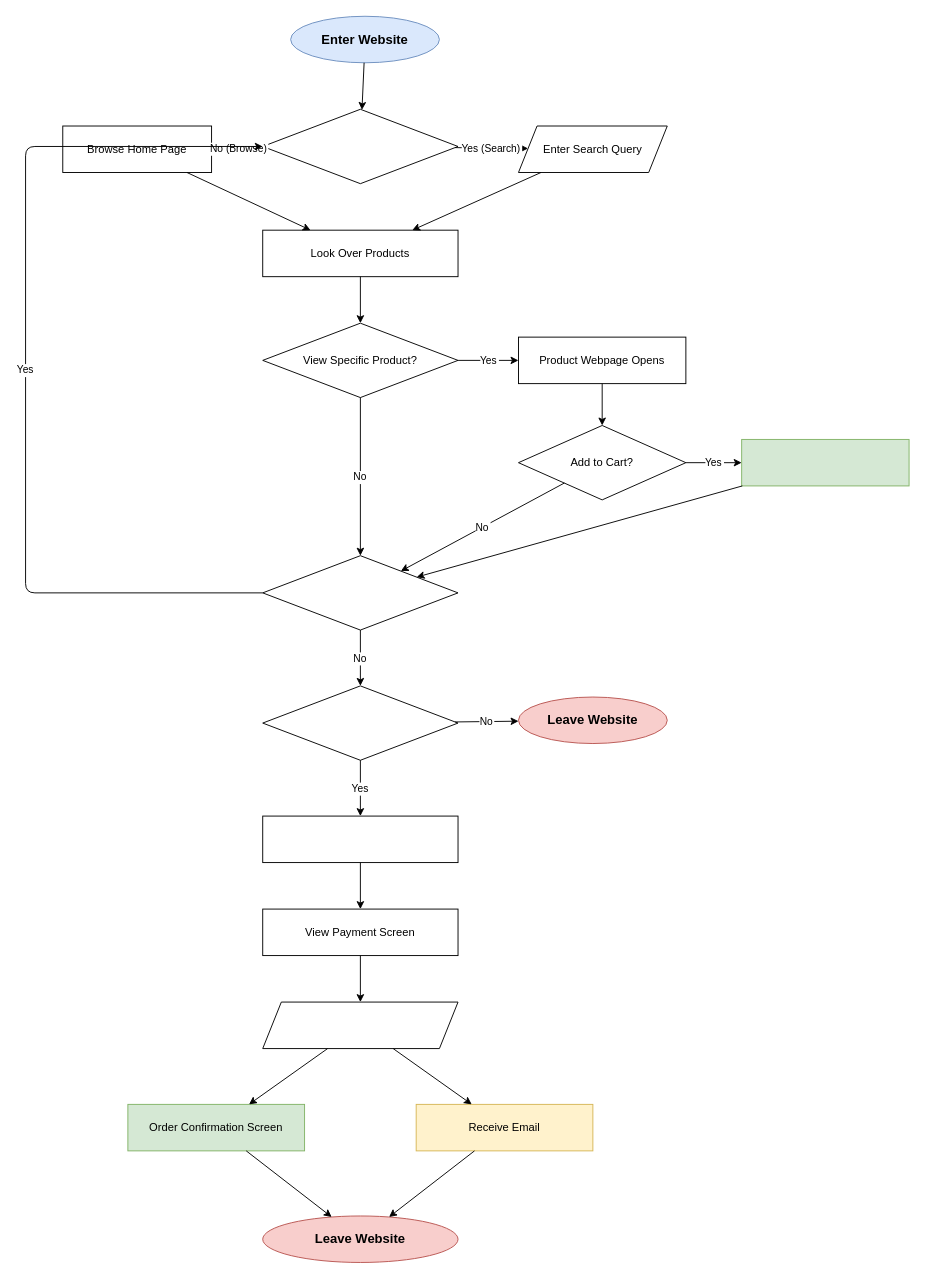
This 925x1279 diagram has some shape labels left out. The shapes that lost their labels are listed below. From the top down, each one's centre as x and y in pixels, then its label:
the point at 360,146: Search for Product?
the point at 825,462: Added to Cart Confirmation
the point at 360,592: Continue Shopping?
the point at 360,722: Checkout?
the point at 360,839: View Cart Screen
the point at 360,1025: Enter Payment Information
